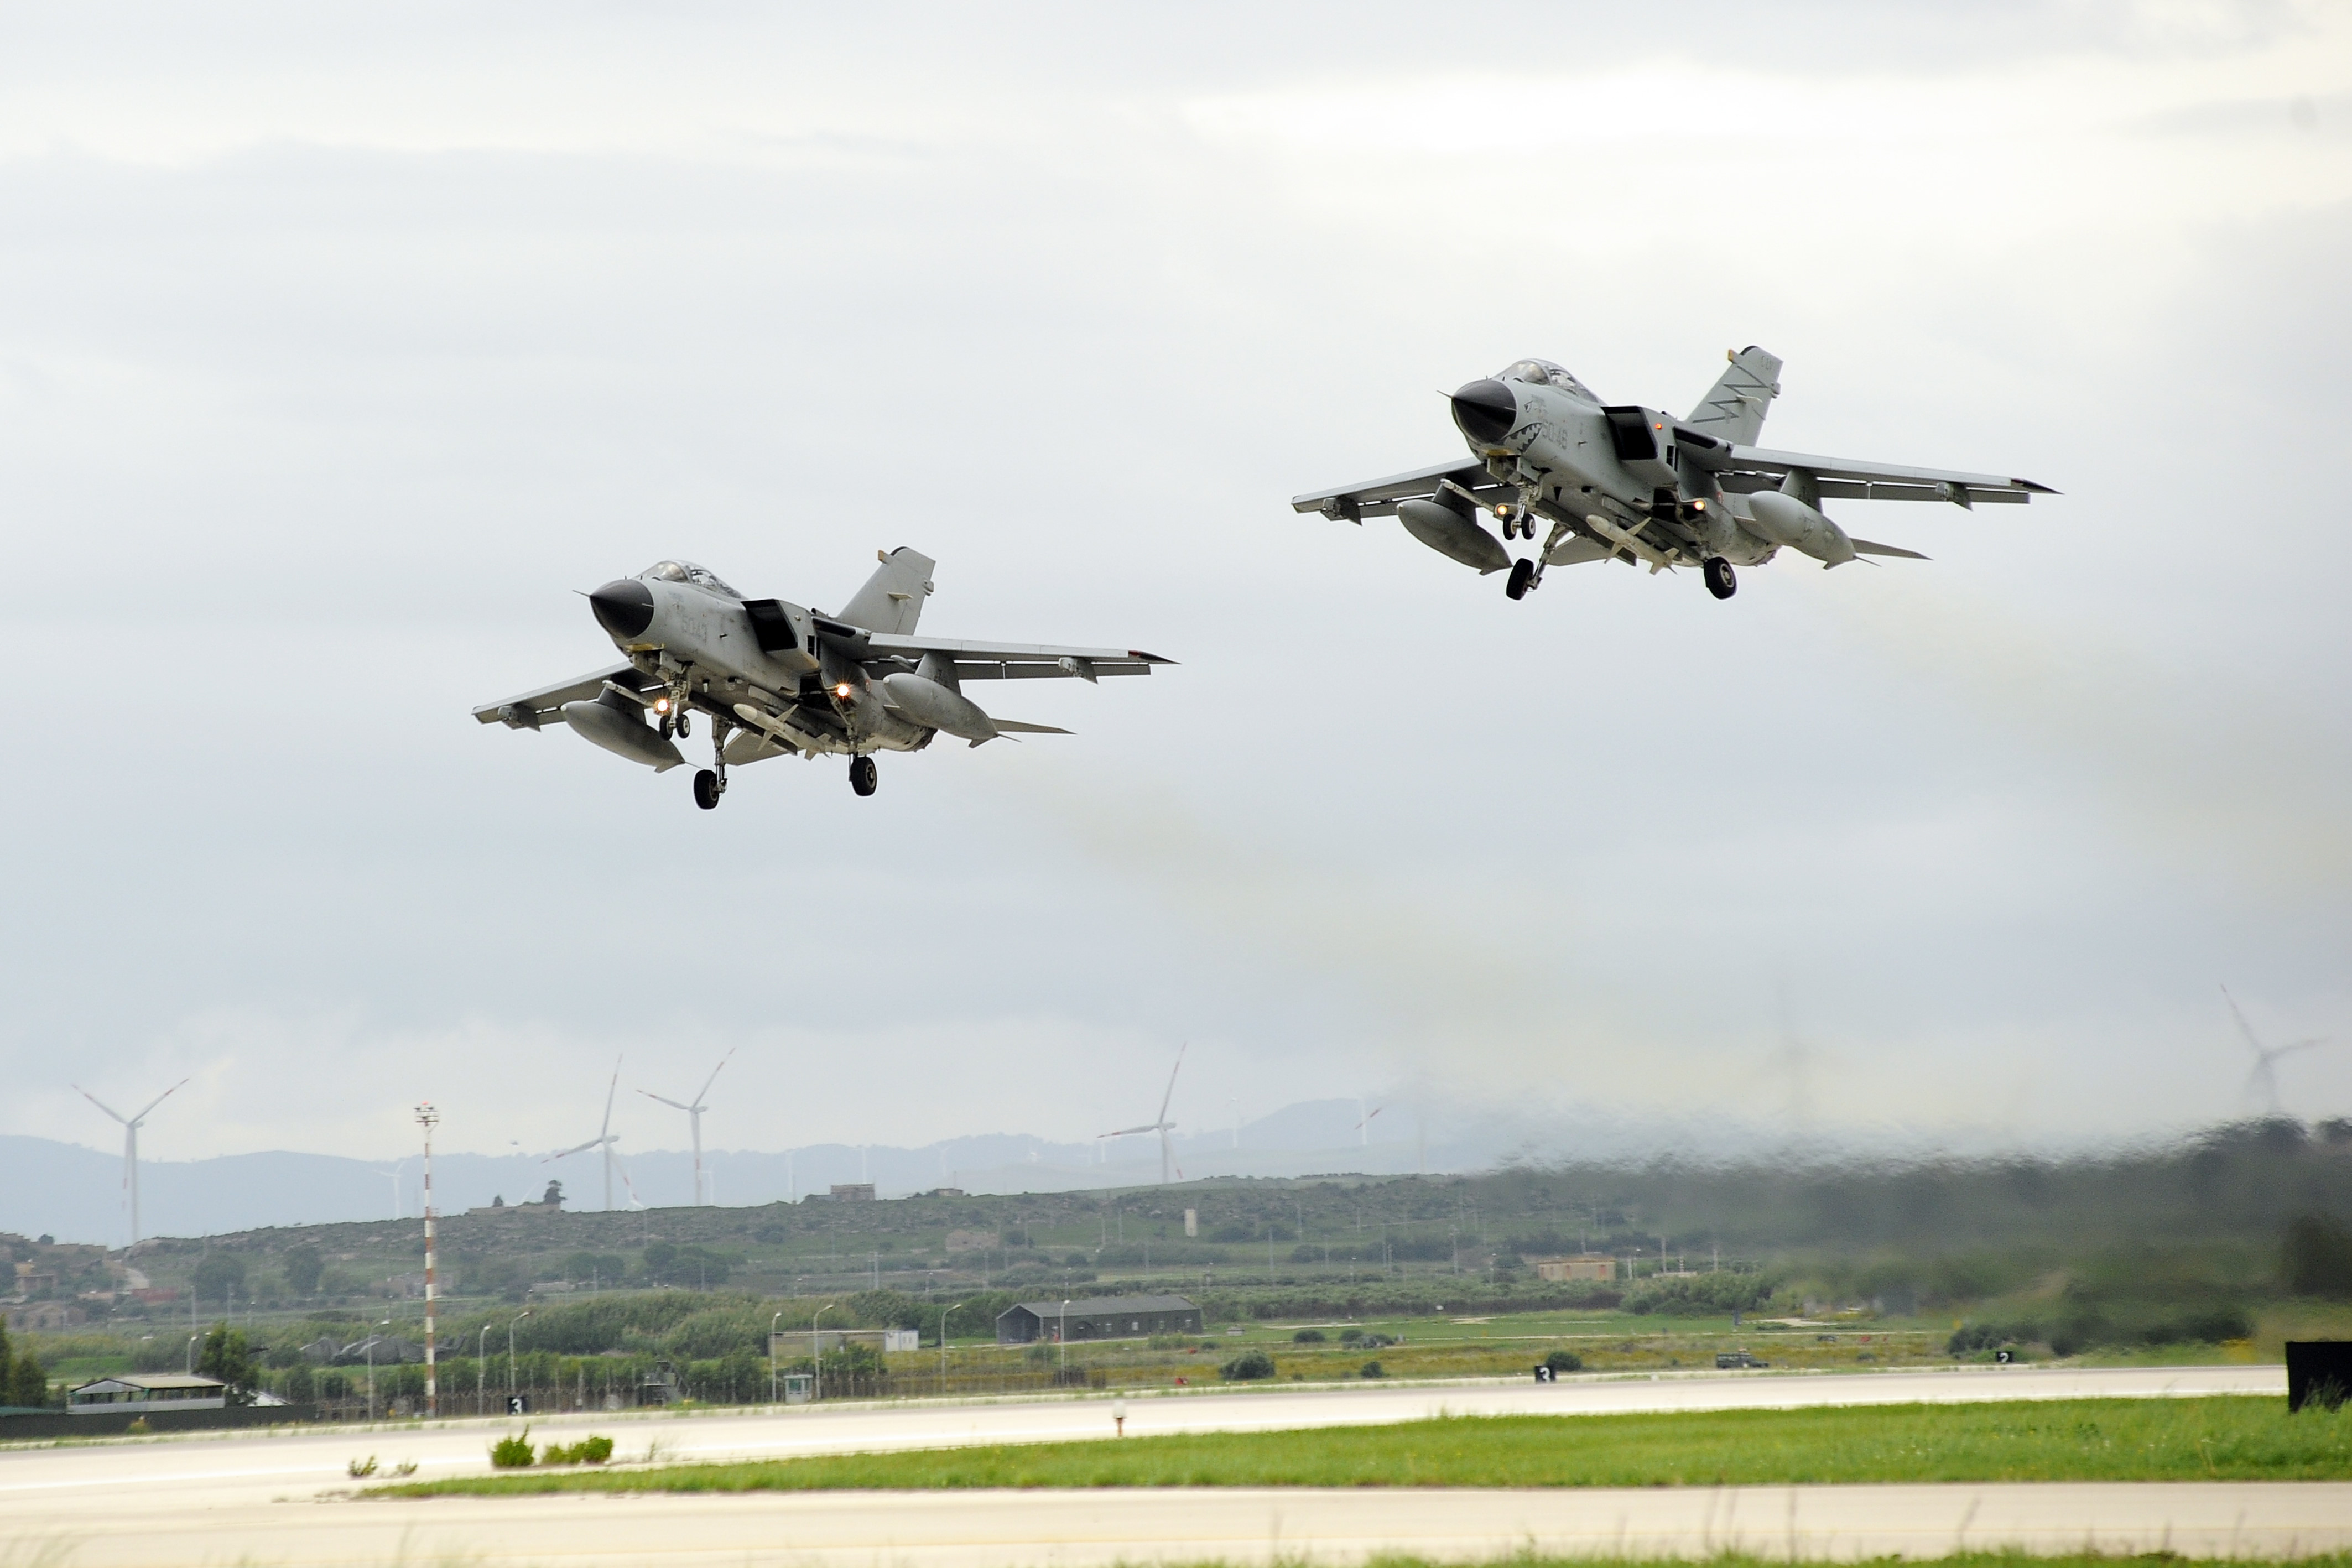Tornado: (1290, 345, 2067, 600), (471, 546, 1183, 810)
